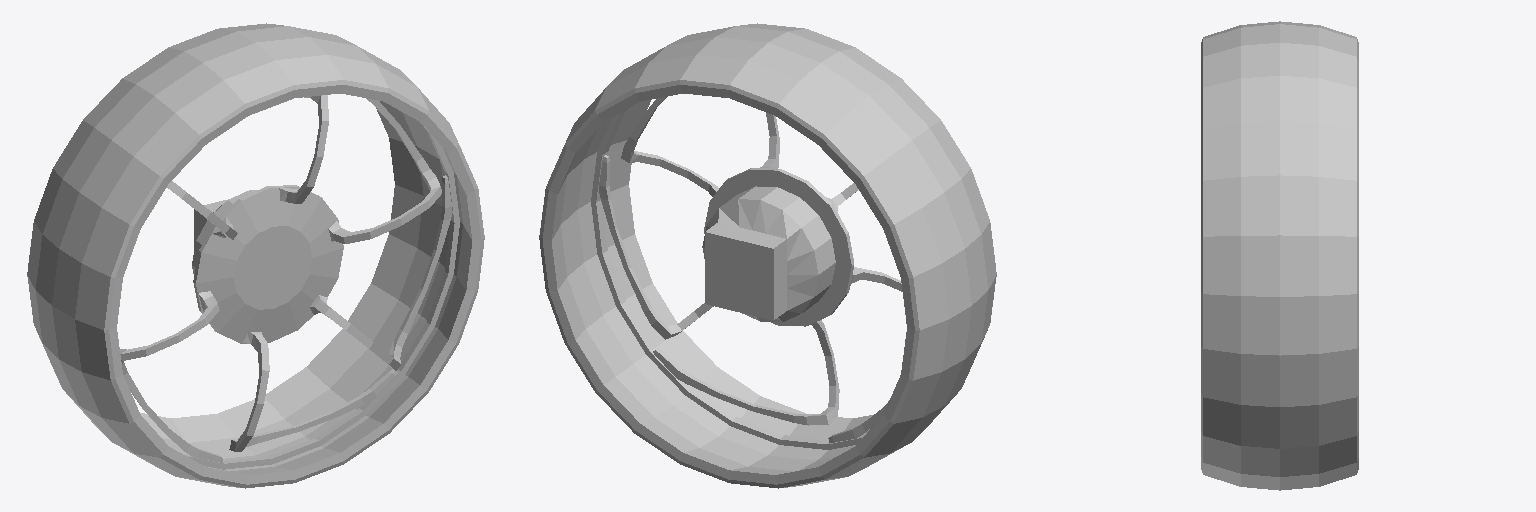
Rendered from spacewheel(S).obj.
The picture shows the model from 3 angles: view 1: azimuth 30°, elevation 25°; view 2: azimuth 150°, elevation 25°; view 3: azimuth 270°, elevation 25°; orthographic projection.
Parts seen in each view (by area): view 1: wheel_01_L_Cylinder.015; view 2: wheel_01_L_Cylinder.015; view 3: wheel_01_L_Cylinder.015.
Part boxes in pixels (left/top/right/bottom): wheel_01_L_Cylinder.015: left=27, top=23, right=484, bottom=488; wheel_01_L_Cylinder.015: left=539, top=23, right=996, bottom=488; wheel_01_L_Cylinder.015: left=1201, top=21, right=1358, bottom=490.
Bounding box in the file's own units: 3 × 3 × 1.